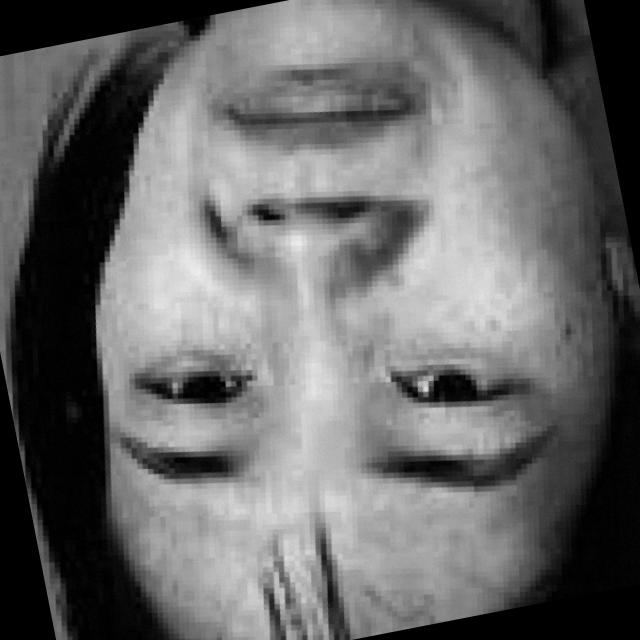disgust: (47, 0, 620, 632)
